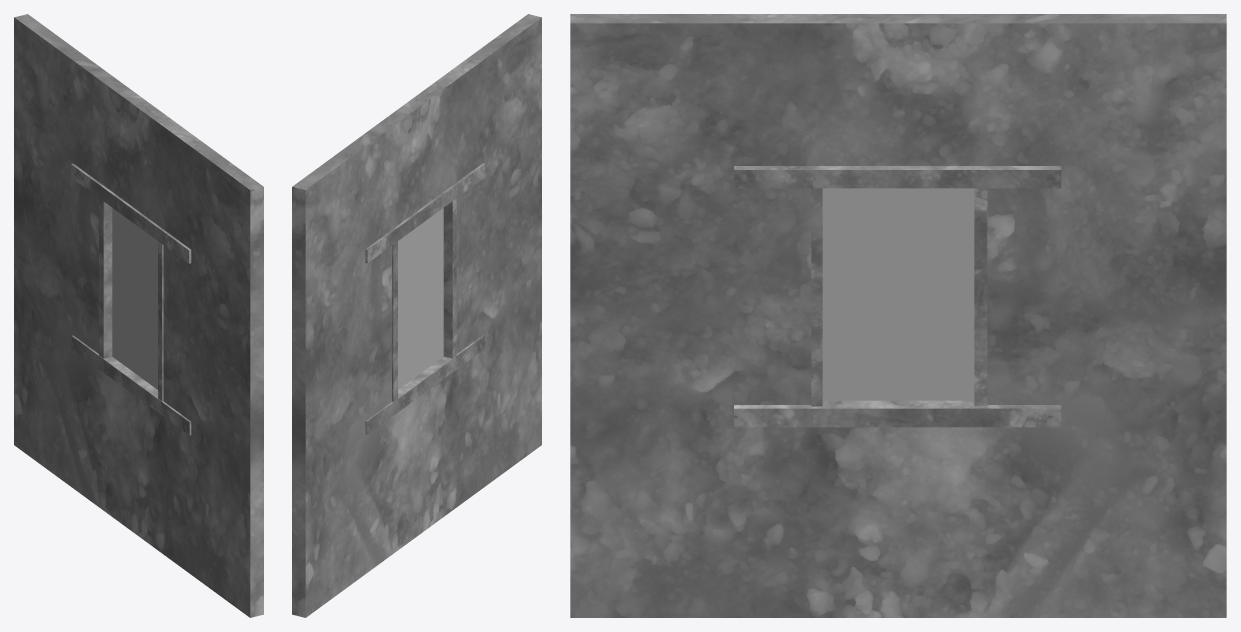
File: SM_WallWindow_01f.fbx
The picture shows the model from 3 angles, left to right: view 1: azimuth 30°, elevation 25°; view 2: azimuth 150°, elevation 25°; view 3: azimuth 270°, elevation 25°; orthographic projection. The views are drawn at different scales.
Visible parts, largest first — view 1: SM_WallWindow_01f_LOD0; view 2: SM_WallWindow_01f_LOD0; view 3: SM_WallWindow_01f_LOD0.
Boxes of the visible parts, x1,y1,x2,y2 form: SM_WallWindow_01f_LOD0: (14, 14, 263, 617); SM_WallWindow_01f_LOD0: (292, 14, 541, 617); SM_WallWindow_01f_LOD0: (570, 14, 1226, 617).
Size of the model in its own units: 15.85 by 300 by 300.
